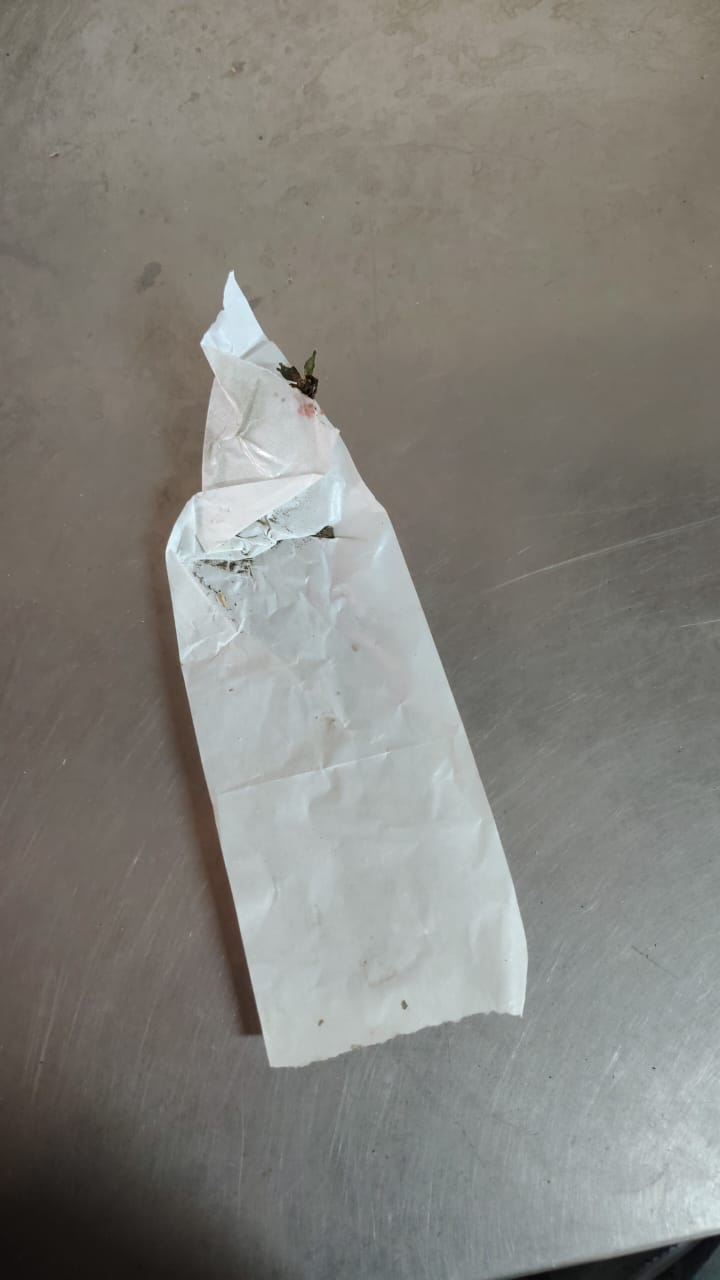Papel: (168, 273, 530, 1068)
